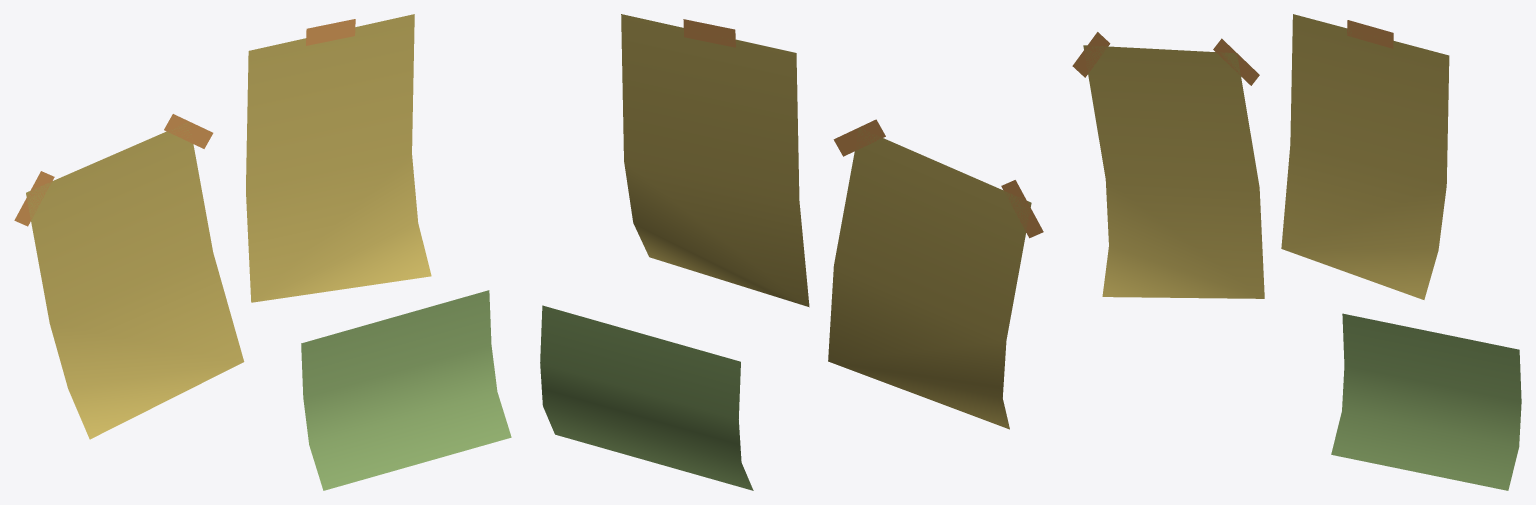
The model's file is SM_Wall_Postits_GRP_01.fbx.
3 views of the same model, side by side, from view 1: azimuth 30°, elevation 25°; view 2: azimuth 150°, elevation 25°; view 3: azimuth 330°, elevation 25° (orthographic). The views are drawn at different scales.
Visible parts, largest first — view 1: SM_Wall_Postits_GRP_01; view 2: SM_Wall_Postits_GRP_01; view 3: SM_Wall_Postits_GRP_01.
Boxes of the visible parts, left/top/right/bottom form: SM_Wall_Postits_GRP_01: left=14, top=14, right=511, bottom=490; SM_Wall_Postits_GRP_01: left=540, top=14, right=1043, bottom=490; SM_Wall_Postits_GRP_01: left=1072, top=14, right=1521, bottom=490.
Size of the model in its own units: 30.7 by 27.46 by 2.41.
